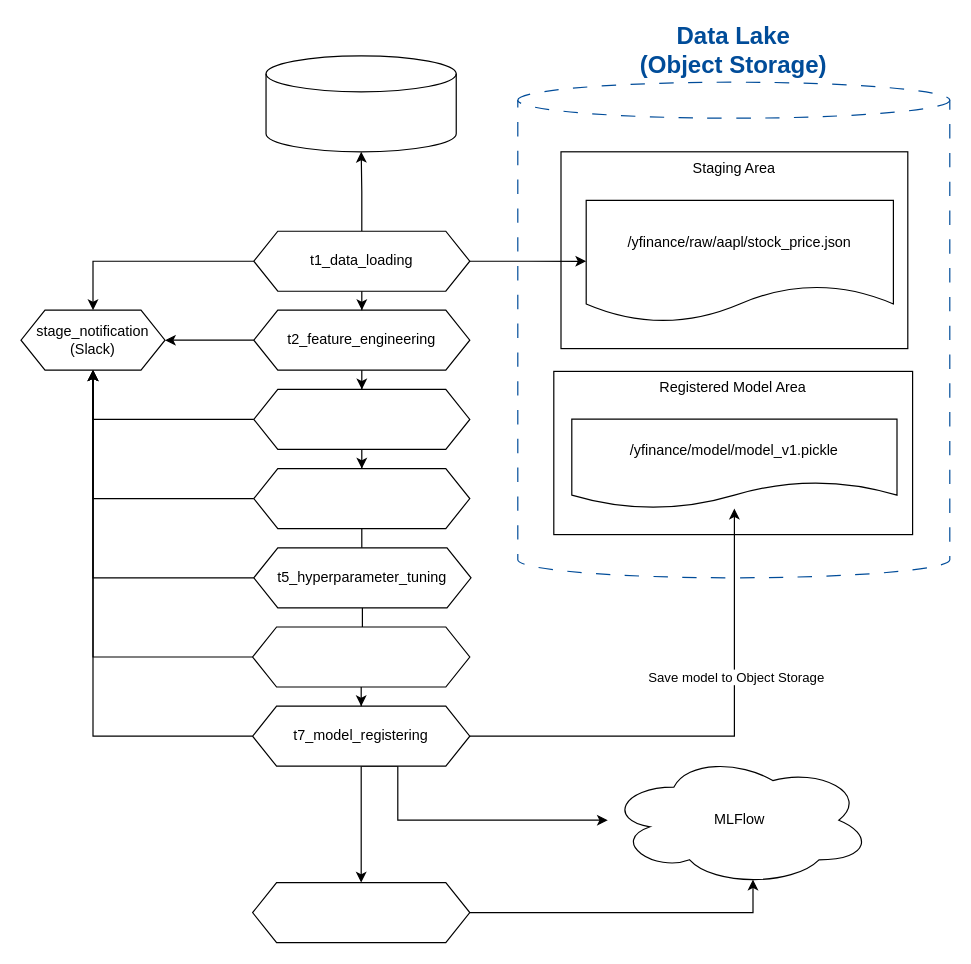
Image size: 971x964. Some labels were removed from this diagram. The centre of each missing label's shape, as x and y in pixels:
"Data Warehouse" belongs at pixel 360 103.
"t3_feature_selection" belongs at pixel 361 418.
"t4_model_selection_training" belongs at pixel 361 498.
"t6_model_evaluation" belongs at pixel 360 656.
"t8_model_serving" belongs at pixel 360 912.
